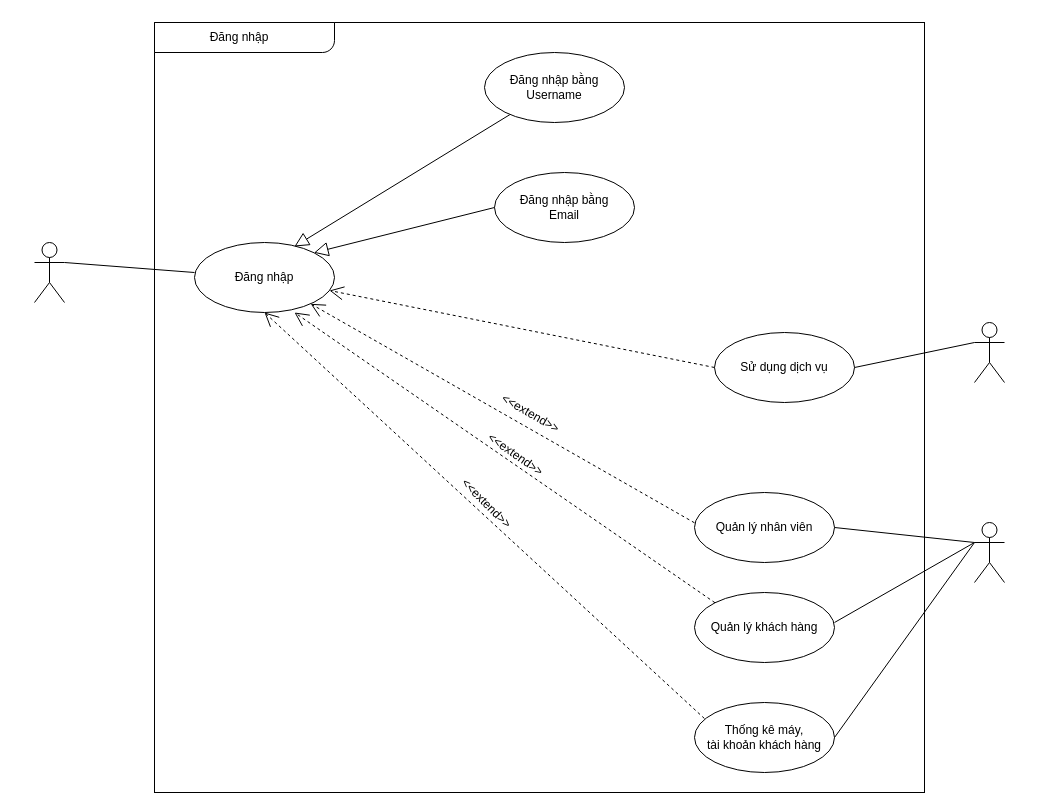
The diagram is 1038 pixels wide and 810 high, and some of its shapes have lost their labels. Here are the shapes that lost their labels. From the top down, the centre of each, then its label:
At (x=49, y=272): "Khách hàng Nhân viên Quản lý".
At (x=989, y=352): "Khách hàng".
At (x=989, y=552): "Nhân viên Quản lý".
